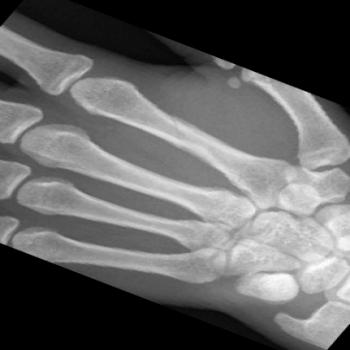Fracture: (158, 107, 194, 149)
